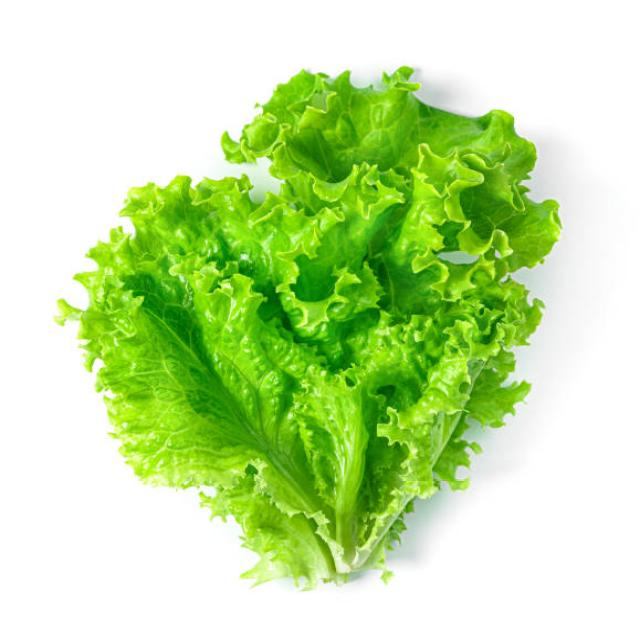Wet Waste: (74, 62, 564, 558)
